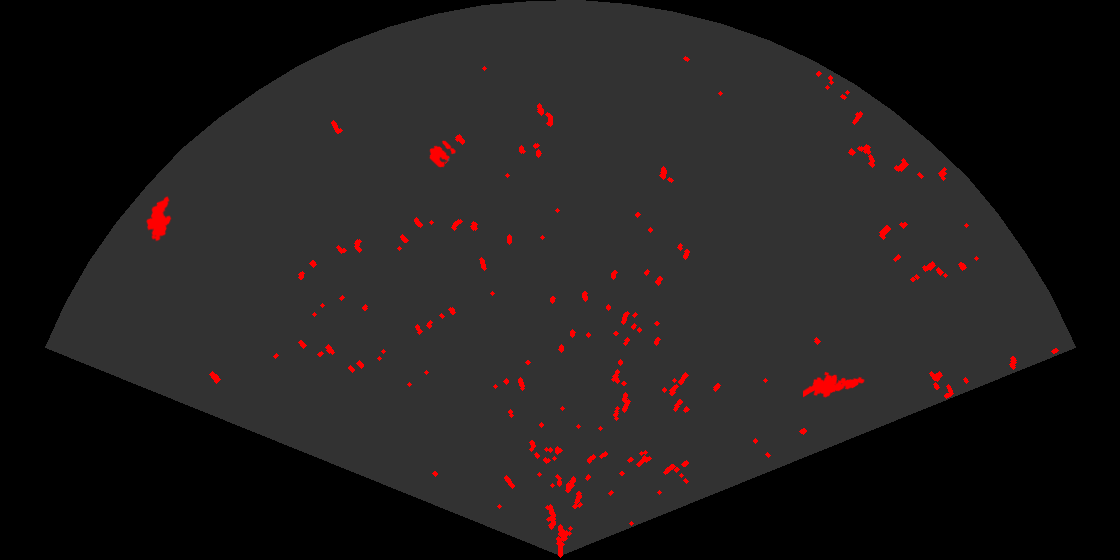AUV: (144, 194, 173, 243)
ball: (428, 139, 457, 169)
frogman: (803, 370, 866, 399)
